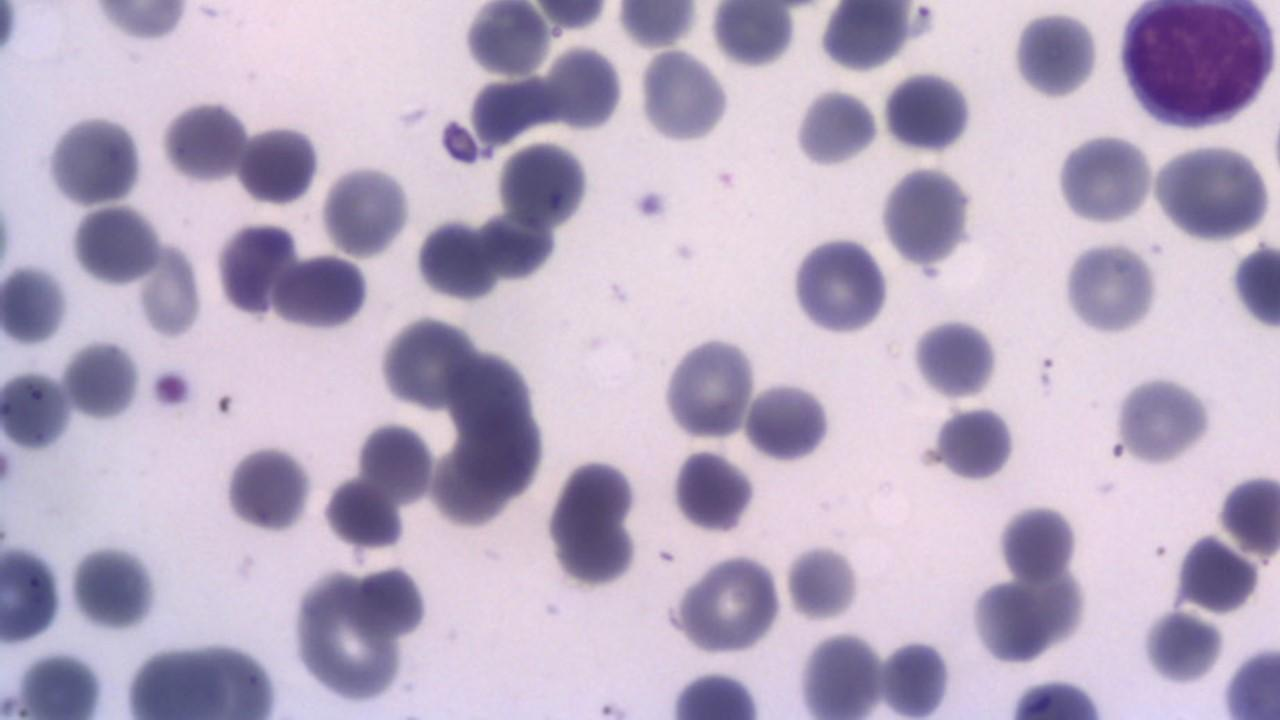Platelets: (1059, 239, 1165, 337), (1052, 130, 1154, 229), (44, 110, 145, 208), (1112, 371, 1216, 466), (64, 542, 165, 636), (219, 442, 316, 538), (740, 376, 840, 462), (880, 67, 975, 157), (1009, 6, 1097, 103), (668, 448, 758, 538), (910, 314, 998, 402), (411, 216, 501, 301), (790, 86, 883, 168), (235, 122, 322, 208), (994, 501, 1083, 583), (62, 334, 143, 424), (932, 404, 1018, 486), (0, 542, 68, 644), (0, 260, 68, 348), (1214, 469, 1278, 556), (1227, 239, 1280, 332), (1004, 678, 1113, 719), (148, 363, 197, 412), (0, 194, 19, 278), (630, 185, 672, 221), (0, 2, 22, 60), (0, 440, 18, 496)
RBC: (1151, 140, 1273, 243), (670, 552, 784, 656), (661, 332, 756, 444), (789, 232, 890, 337), (42, 110, 148, 208), (1058, 238, 1160, 337), (1111, 370, 1215, 464), (319, 159, 412, 260), (494, 139, 594, 231), (638, 45, 730, 145), (213, 217, 298, 324), (270, 248, 370, 335), (880, 69, 976, 156), (159, 96, 248, 188), (740, 378, 835, 464), (67, 204, 162, 288), (236, 120, 322, 208), (136, 236, 205, 341), (816, 0, 912, 74), (462, 0, 550, 79), (1, 544, 67, 648), (65, 337, 142, 423), (1, 367, 74, 451), (708, 0, 796, 69), (2, 260, 70, 348), (1220, 638, 1280, 718), (616, 1, 700, 48), (527, 0, 614, 31)
WBC: (345, 0, 1280, 720), (1111, 0, 1277, 135), (876, 162, 979, 268), (41, 112, 153, 206), (637, 44, 729, 144), (68, 203, 162, 286), (816, 0, 914, 73)
